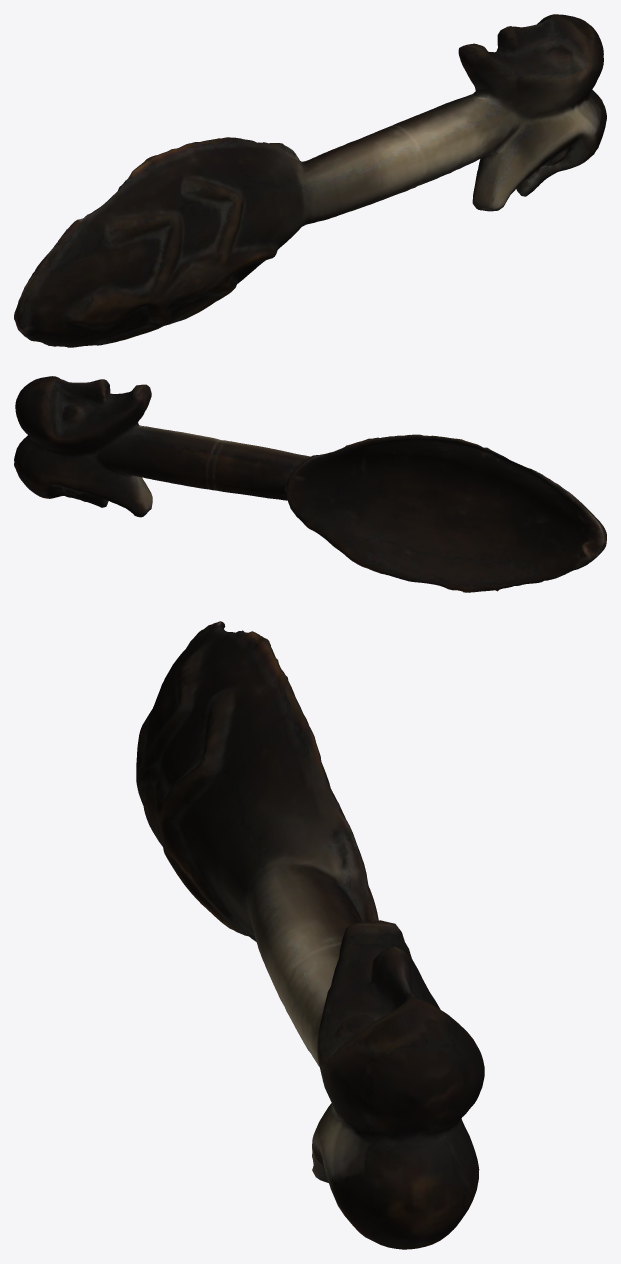
Rendered from preview.glb.
The picture shows the model from 3 angles, top to bottom: view 1: azimuth 30°, elevation 25°; view 2: azimuth 150°, elevation 25°; view 3: azimuth 270°, elevation 25°; orthographic projection. The views are drawn at different scales.
Parts seen in each view (by area): view 1: Object_2; view 2: Object_2; view 3: Object_2.
Part boxes in pixels (left/top/right/bottom): Object_2: left=14, top=14, right=606, bottom=347; Object_2: left=14, top=376, right=606, bottom=592; Object_2: left=136, top=621, right=484, bottom=1249.
Size of the model in its own units: 326 by 87.82 by 92.45.
Materials: 1 (1 with a texture image).
